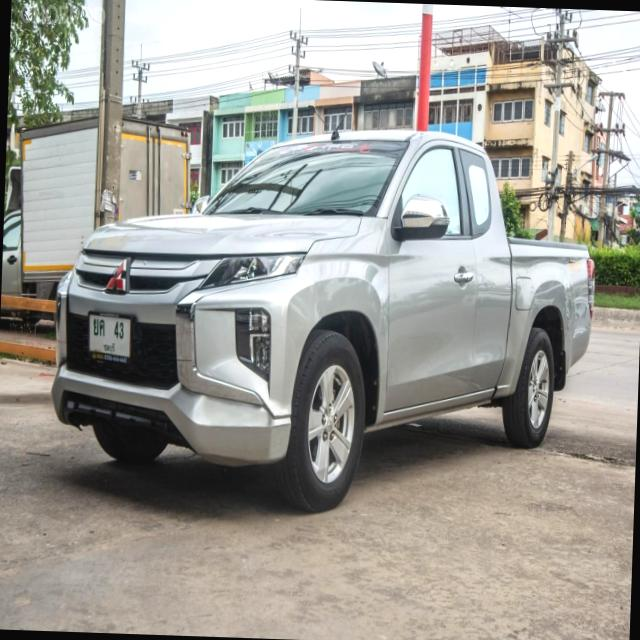license_plate: (84, 308, 137, 368)
